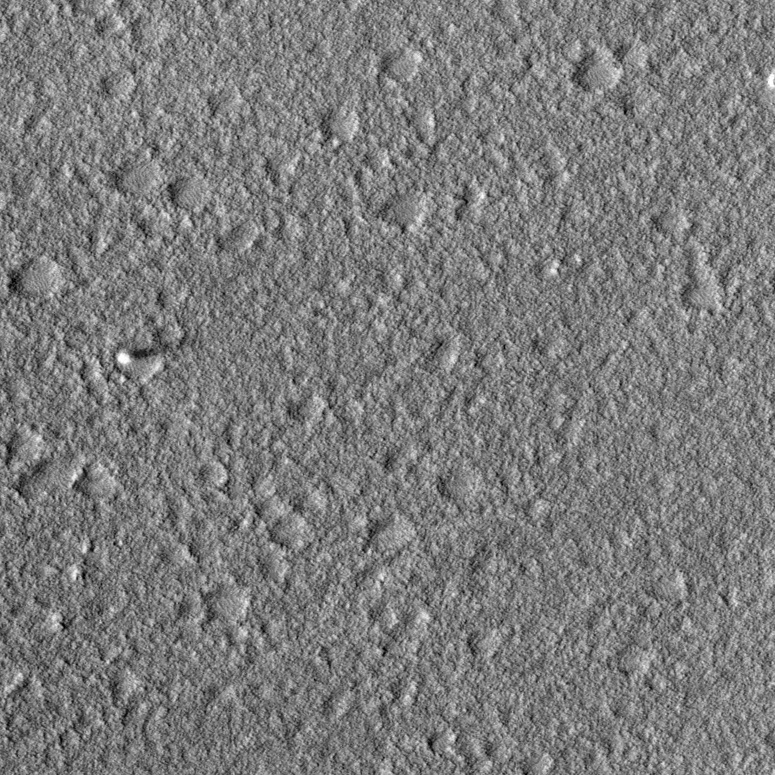dust_devil: (115, 340, 171, 365)
